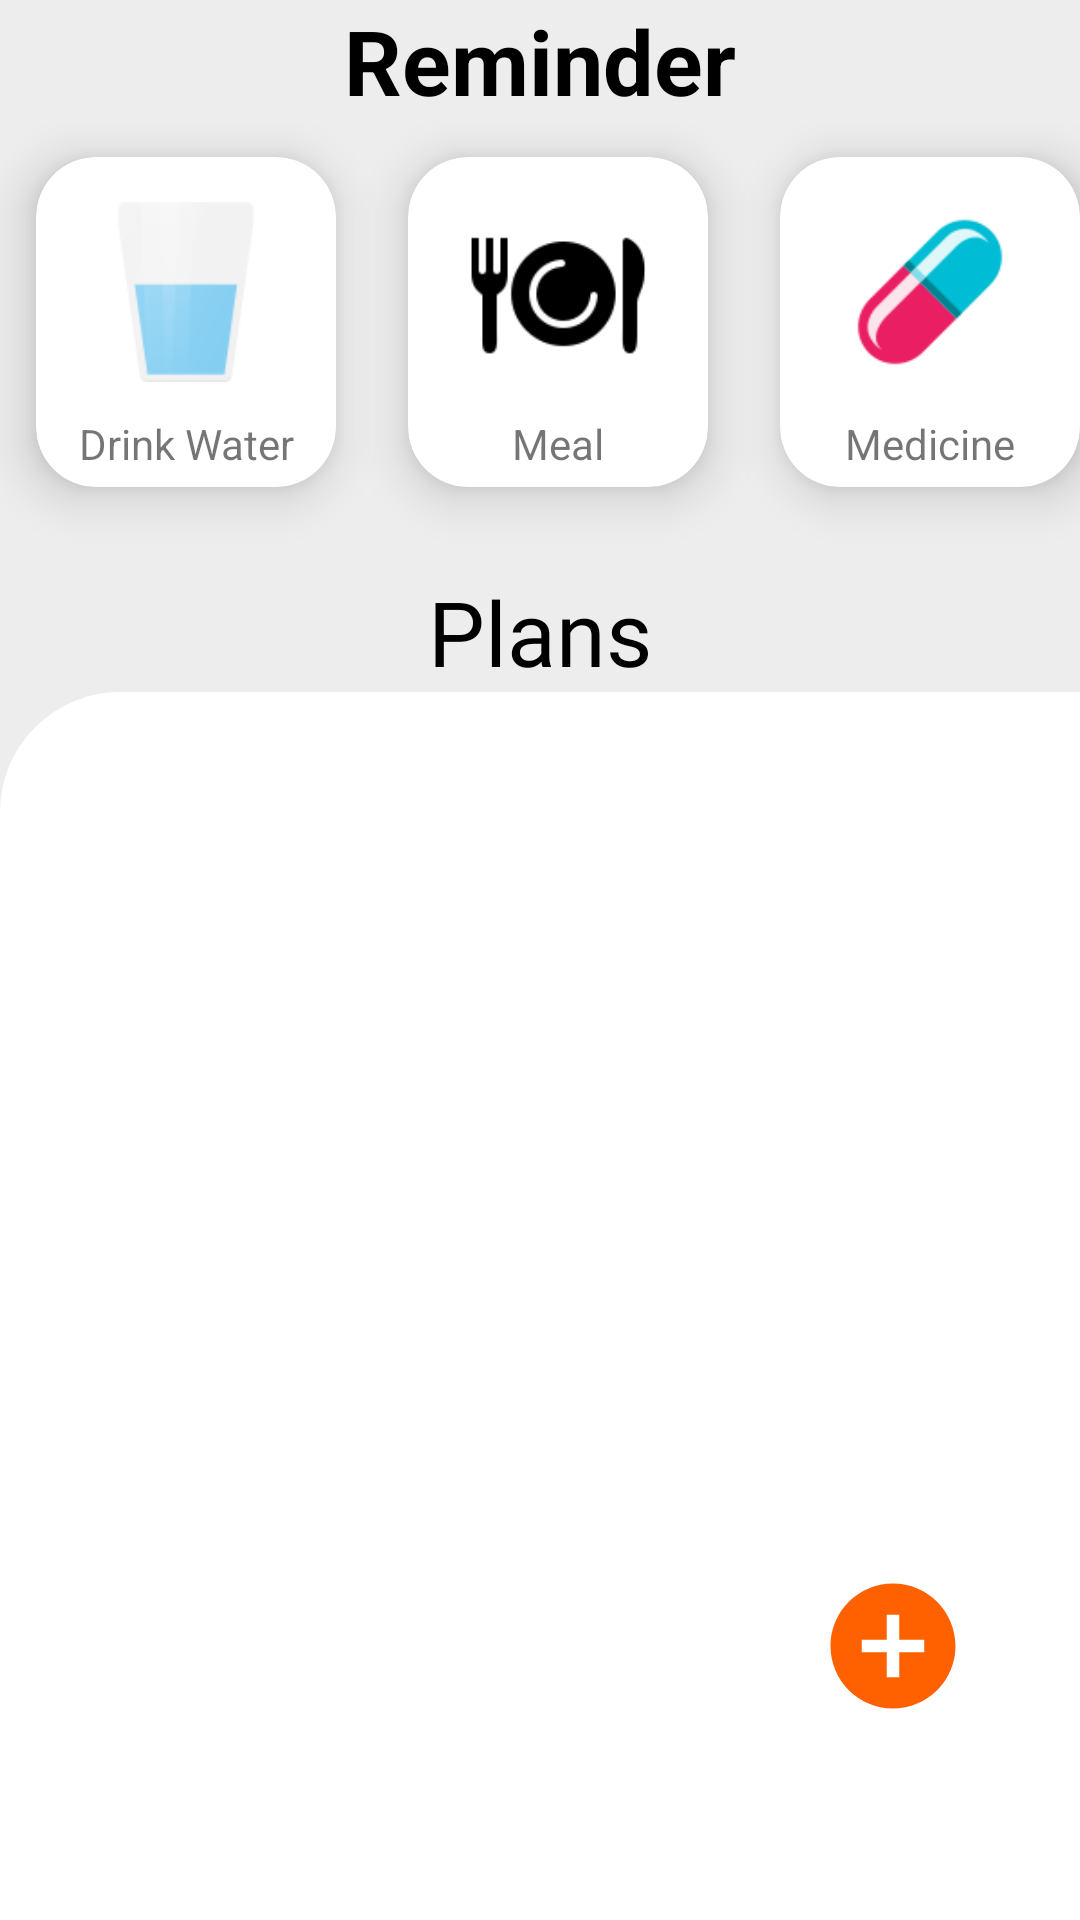

Icon click points for this 1080px×1920px phone screenshot, format (x=x, y=y):
add circle: (x=893, y=1646)
food: (x=558, y=295)
glass: (x=185, y=332)
